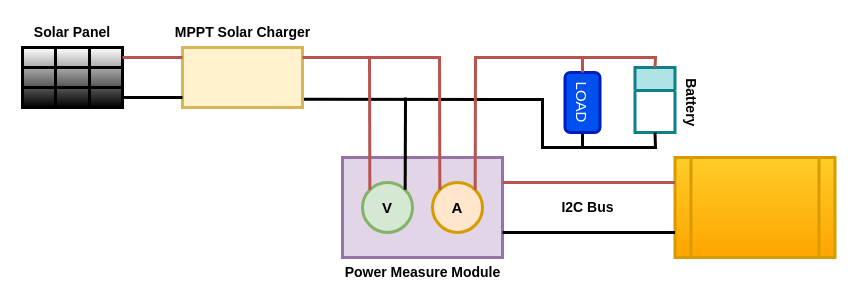
This 853x304 diagram has some shape labels left out. The shapes that lost their labels are listed below. From the top down, each one's centre as x and y in pixels, then its label:
At pixel 242 77: "MPPT Controller".
At pixel 754 207: "Jetson Nano".
